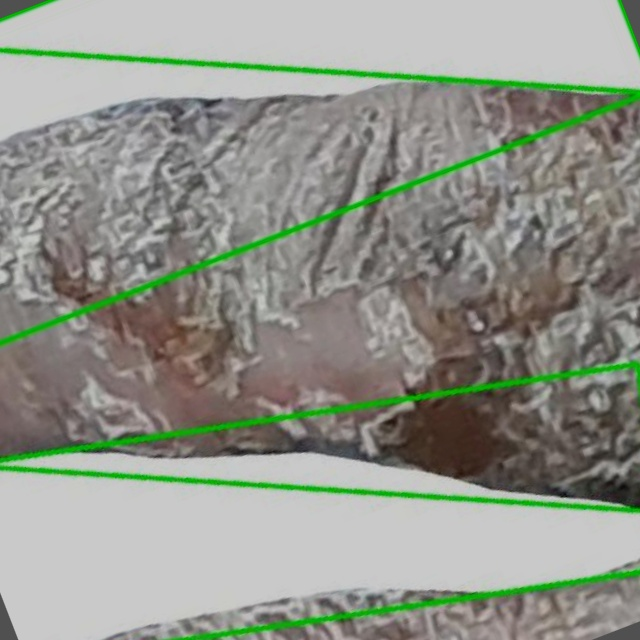Eczema: (0, 67, 639, 504), (0, 364, 639, 639)
